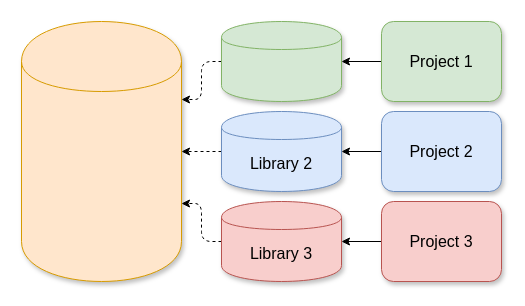
This 525x306 diagram has some shape labels left out. The centre of each missing label's shape, as x and y in pixels:
"Global Package Cache" goes at pixel 102 152.
"Library 1" goes at pixel 282 62.
